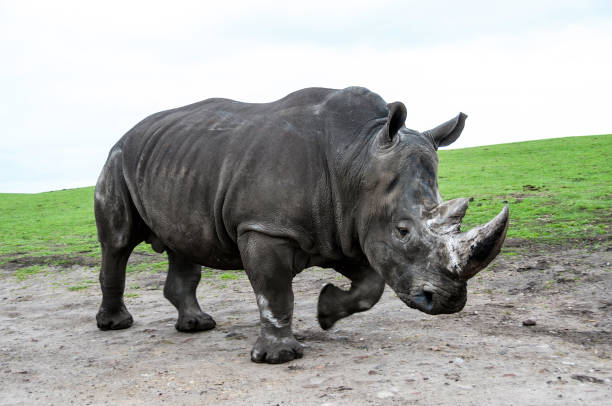rhino: (347, 83, 521, 326)
